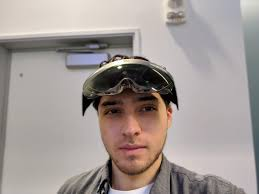hololens: (76, 59, 186, 117)
